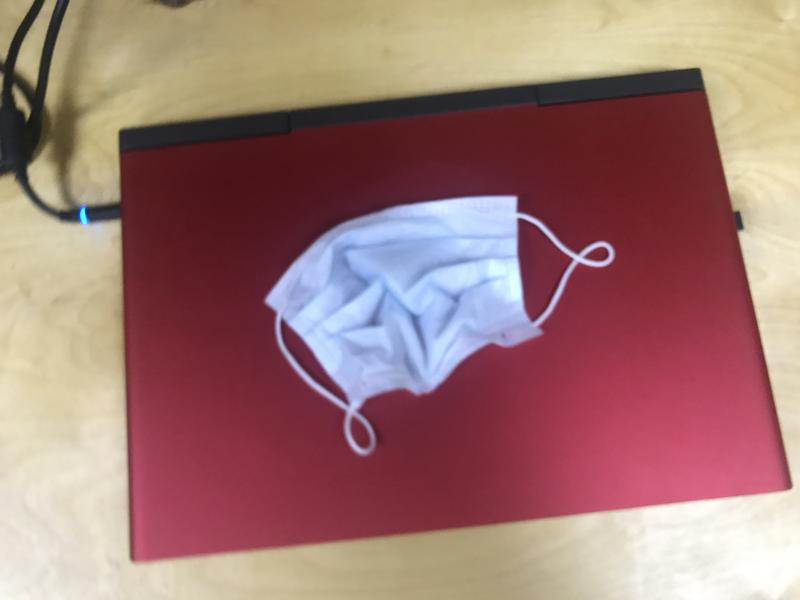medical_mask: (267, 201, 615, 458)
